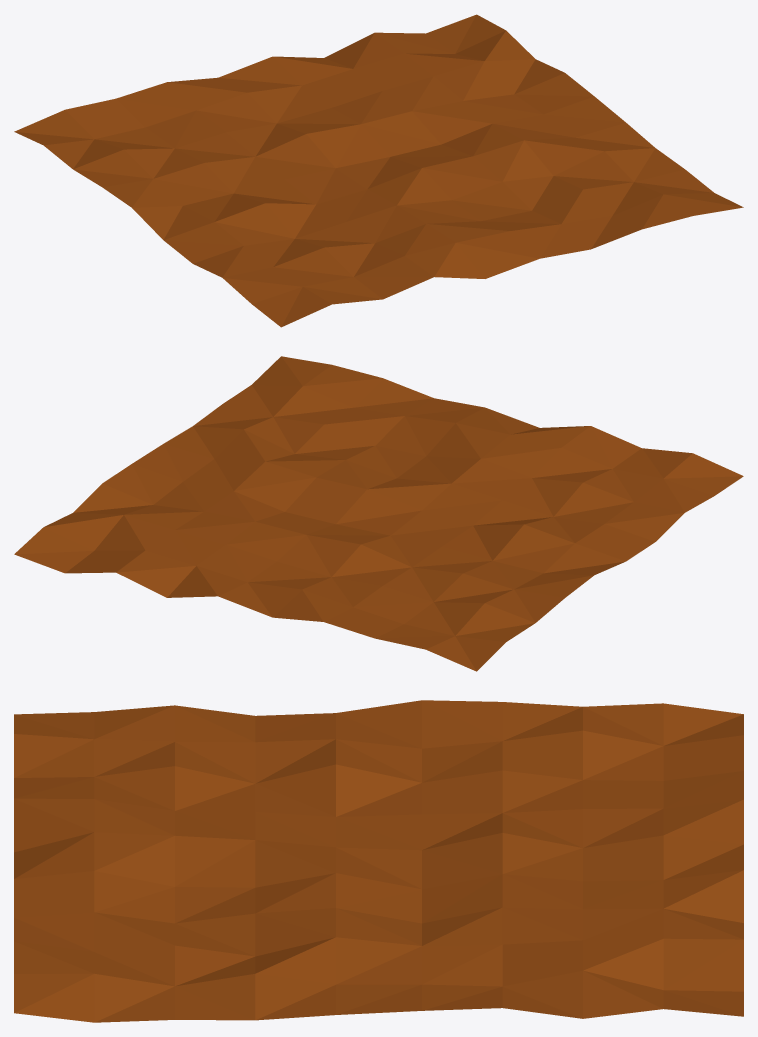
The model's file is Low_Poly_Landscape.glb.
The picture shows the model from 3 angles, top to bottom: view 1: azimuth 30°, elevation 25°; view 2: azimuth 150°, elevation 25°; view 3: azimuth 270°, elevation 25°; orthographic projection. The views are drawn at different scales.
Visible parts, largest first — view 1: landscape00_landscape00-1480591405884-283-69-6_0; view 2: landscape00_landscape00-1480591405884-283-69-6_0; view 3: landscape00_landscape00-1480591405884-283-69-6_0.
Part boxes in pixels (x1=…): landscape00_landscape00-1480591405884-283-69-6_0: x1=14, y1=14, x2=743, y2=327; landscape00_landscape00-1480591405884-283-69-6_0: x1=14, y1=356, x2=743, y2=671; landscape00_landscape00-1480591405884-283-69-6_0: x1=14, y1=700, x2=743, y2=1022.
Bounding box in the file's own units: 6000 × 191 × 6000.
